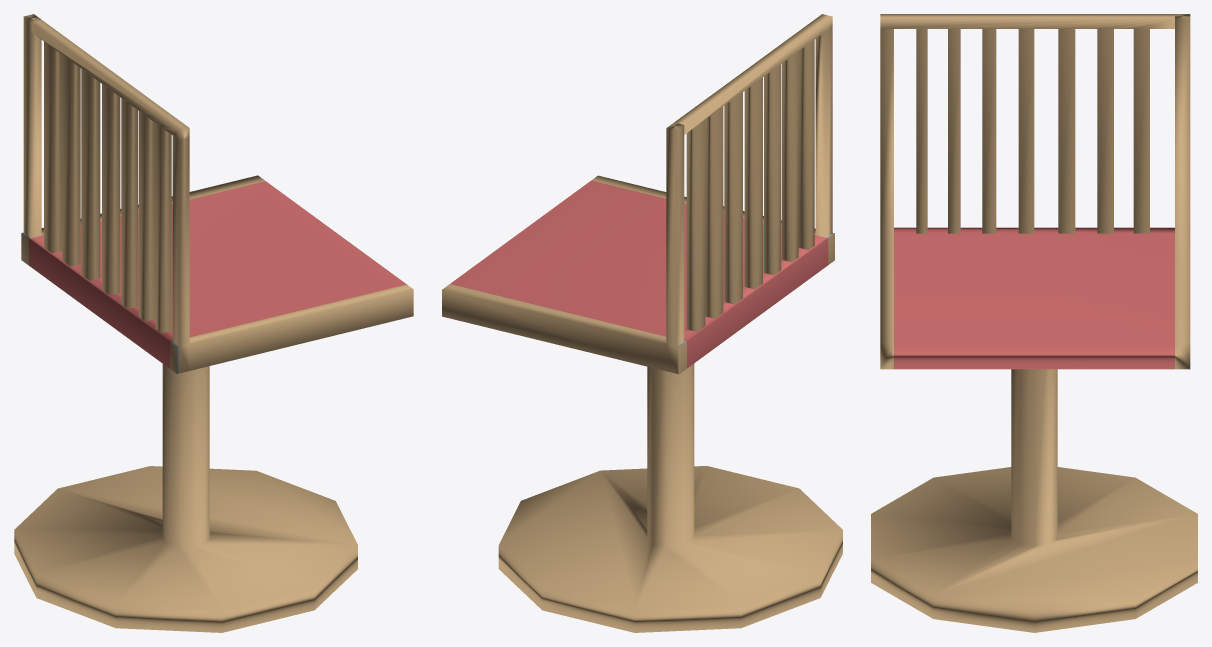
The model's file is Cafeteria Chair.fbx.
3 views of the same model, side by side, from view 1: azimuth 30°, elevation 25°; view 2: azimuth 150°, elevation 25°; view 3: azimuth 270°, elevation 25° (orthographic).
Visible parts, largest first — view 1: polySurface1; view 2: polySurface1; view 3: polySurface1.
Boxes of the visible parts, <box> form: polySurface1: <box>14,14,413,632</box>; polySurface1: <box>442,14,842,632</box>; polySurface1: <box>871,14,1197,632</box>.
Size of the model in its own units: 137 by 222 by 130.
